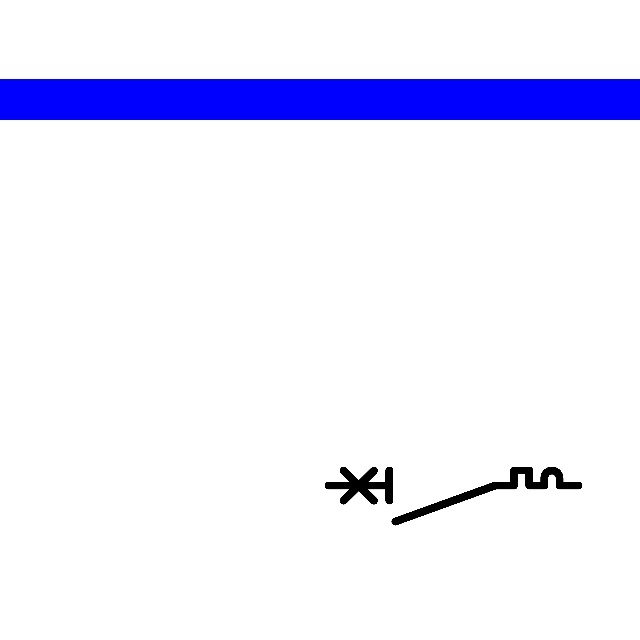interruptor_termomagnetico: (322, 464, 585, 528)
